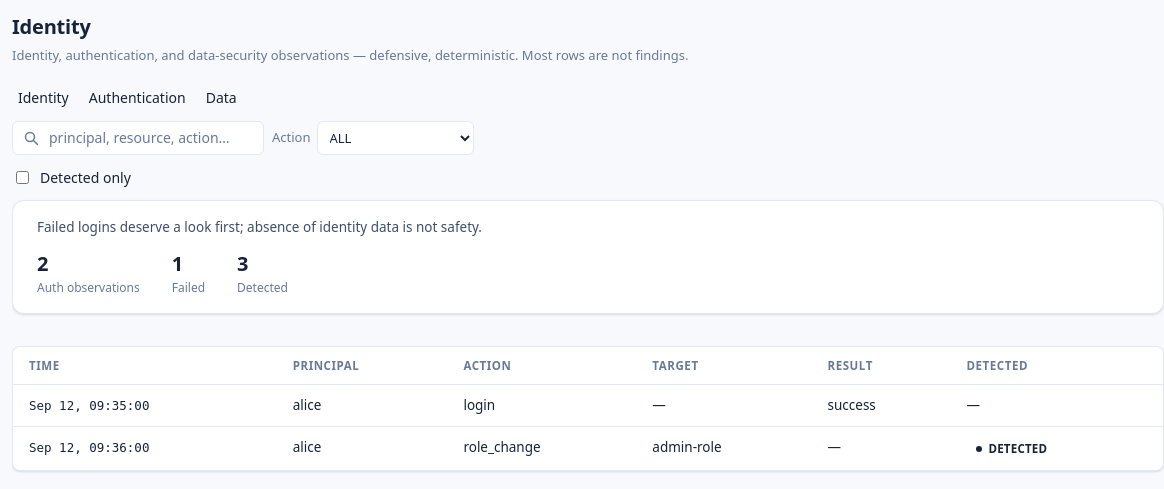
Test: Identity › switches to data tab and searches
Click the button "Data" at (221, 97), box [200, 86, 243, 108]
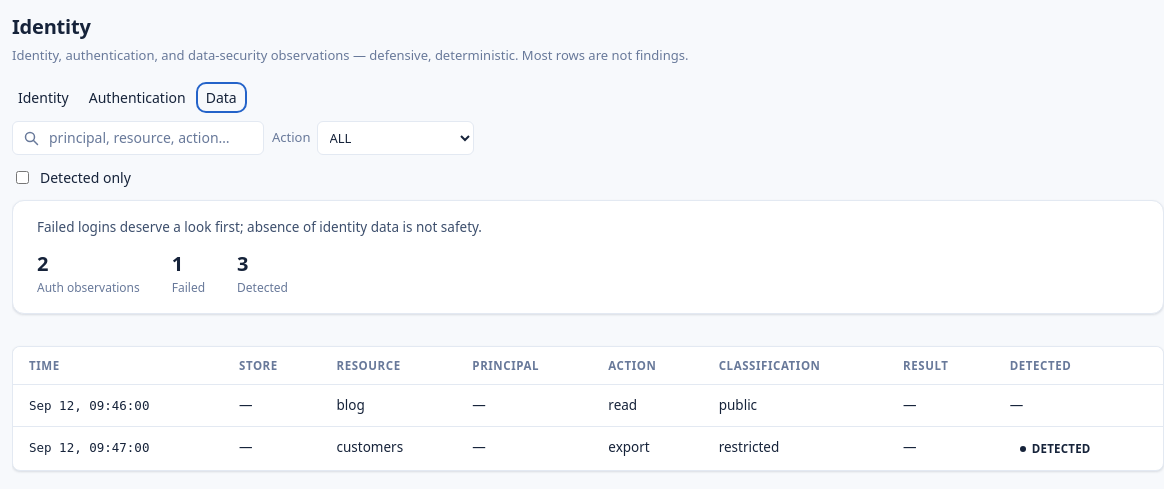
Expected: the text "customers" is shown, [320, 426, 456, 470]
Type "customers" into the field named "Search identity" at (150, 138), box [47, 126, 253, 149]
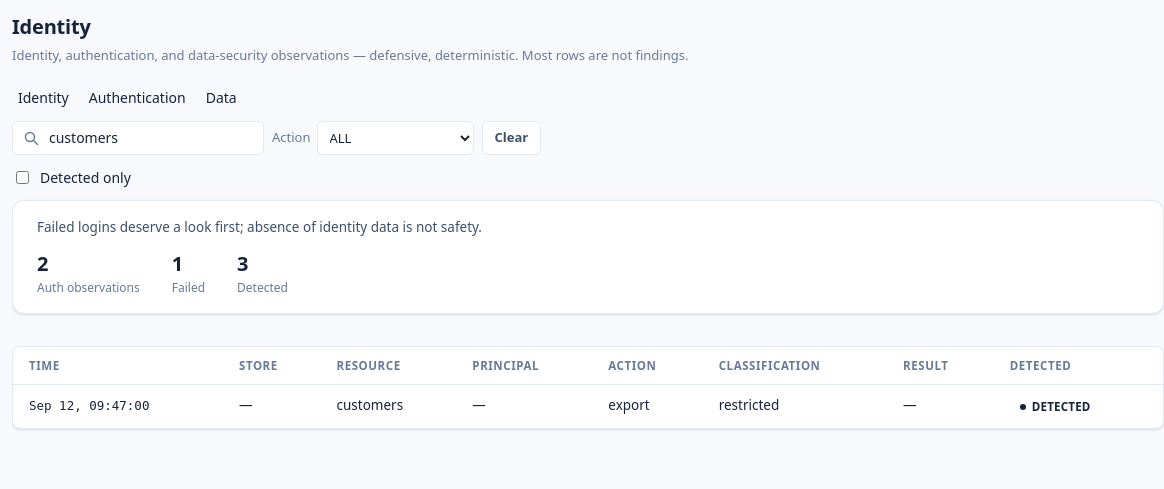
Expected: the text "blog" is gone
